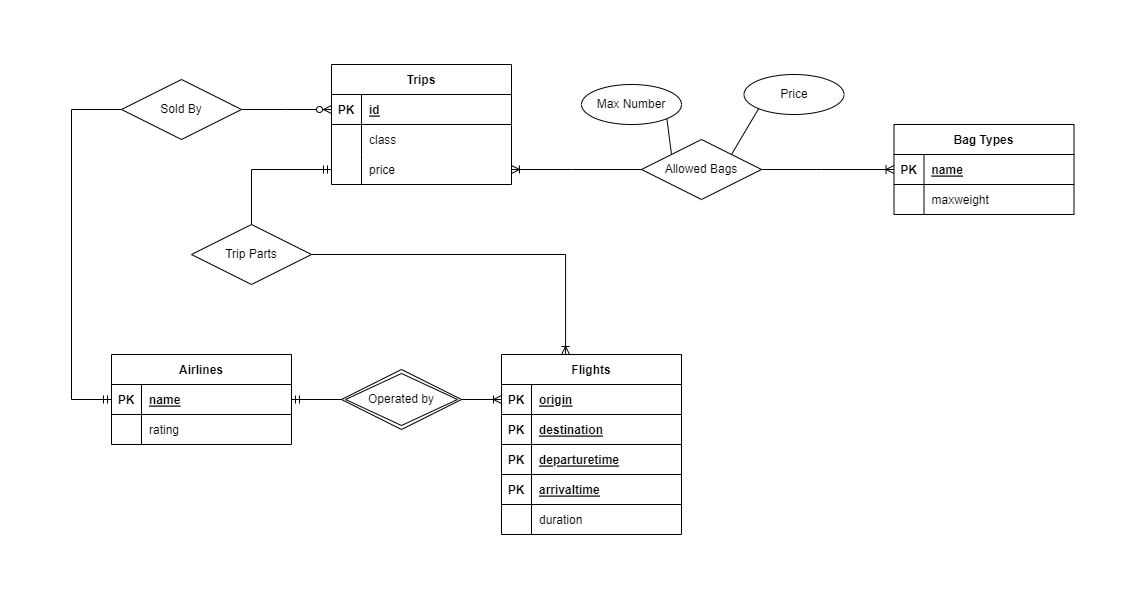entity: (501, 353, 682, 536), (330, 62, 511, 186), (894, 122, 1076, 215), (112, 352, 289, 442)
ident_rel: (340, 366, 461, 432)
many: (513, 159, 536, 182), (551, 336, 577, 353), (868, 161, 893, 178), (311, 97, 329, 120), (482, 390, 502, 405)
one: (312, 160, 333, 177), (293, 389, 309, 410), (93, 390, 111, 408)
rel: (640, 137, 763, 199), (192, 225, 311, 285), (123, 78, 241, 137)
rel_attr: (581, 83, 684, 125), (745, 75, 844, 115)
